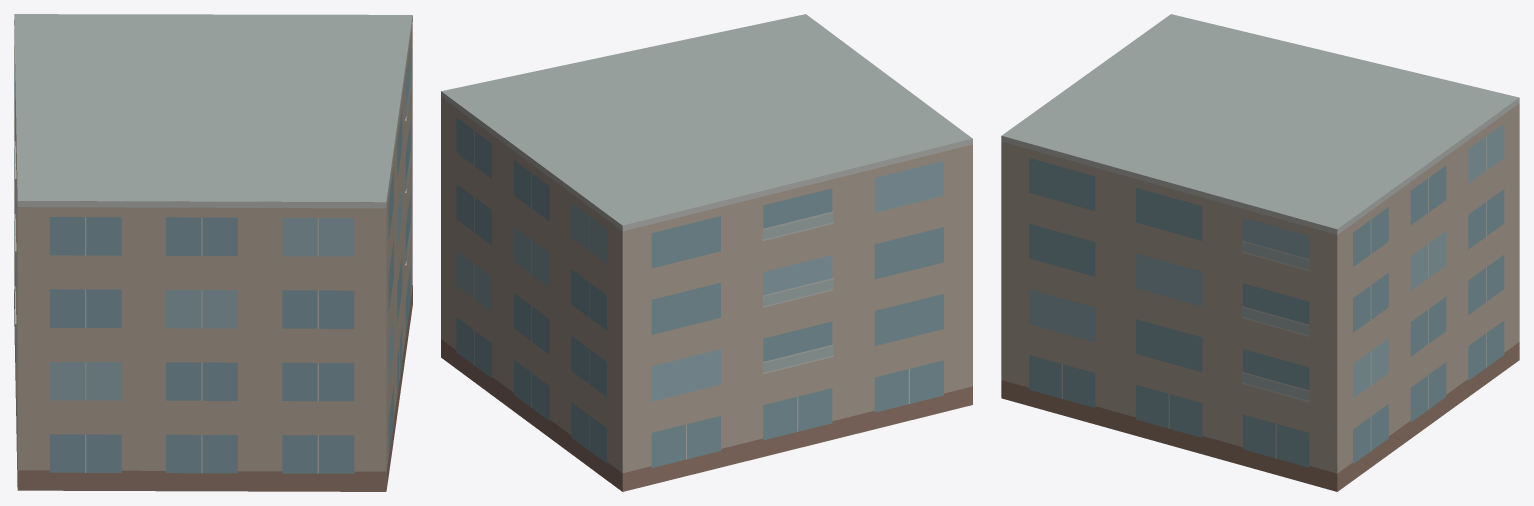
File: survey-upis-32456478.glb
3 views of the same model, side by side, from view 1: azimuth 30°, elevation 25°; view 2: azimuth 150°, elevation 25°; view 3: azimuth 270°, elevation 25° (orthographic). The views are drawn at different scales.
Parts seen in each view (by area): view 1: survey-upis-32456478.tmp; view 2: survey-upis-32456478.tmp; view 3: survey-upis-32456478.tmp.
Part boxes in pixels (x1,y1,x2,y2): survey-upis-32456478.tmp: (14, 14, 412, 491); survey-upis-32456478.tmp: (441, 14, 972, 491); survey-upis-32456478.tmp: (1001, 14, 1519, 491).
Size of the model in its own units: 19.85 by 11.28 by 20.18.
